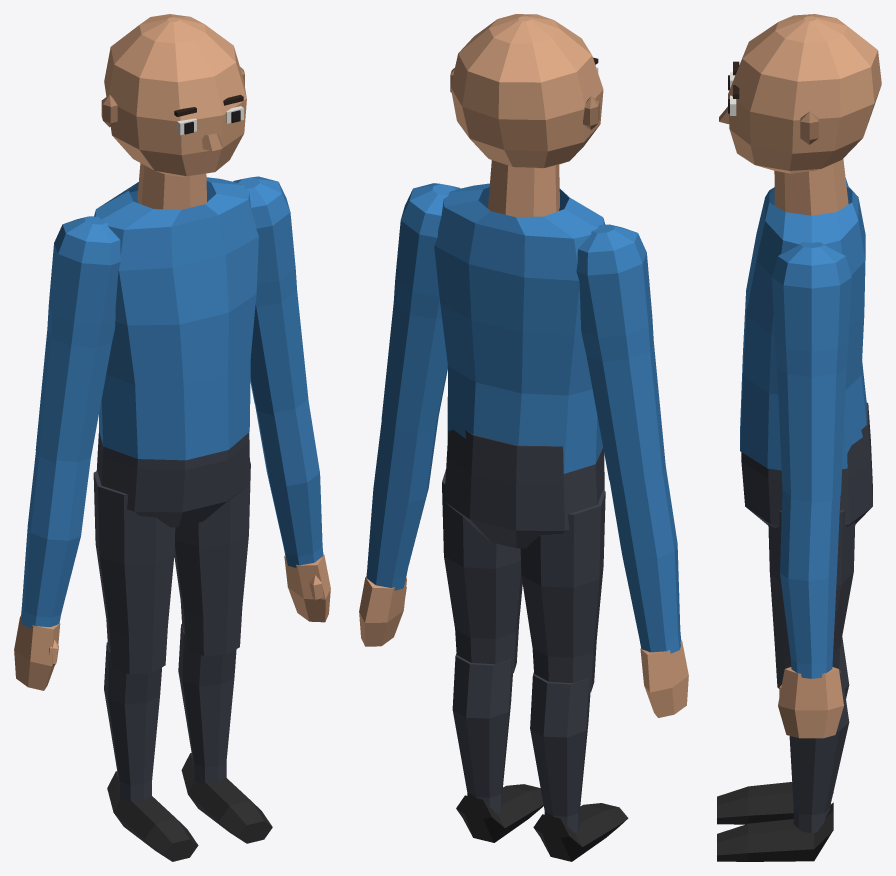
Rendered from petit_x_mince.glb.
The picture shows the model from 3 angles, left to right: view 1: azimuth 30°, elevation 25°; view 2: azimuth 150°, elevation 25°; view 3: azimuth 270°, elevation 25°; orthographic projection. The views are drawn at different scales.
Parts seen in each view (by area): view 1: torse, tete, bras_d, jambe_d, avant_bras_d, bras_g, avant_bras_g, jambe_g, tibia_g, tibia_d, bassin; view 2: torse, tete, bras_d, bassin, bras_g, jambe_d, avant_bras_d, avant_bras_g, tibia_d, tibia_g, jambe_g; view 3: tete, bras_g, torse, avant_bras_g, tibia_g, bassin, jambe_g, tibia_d.
Part boxes in pixels (x1,y1,x2,y2): torse: [94, 177, 258, 460]; tete: [101, 14, 246, 209]; bras_d: [35, 216, 120, 462]; jambe_d: [93, 471, 175, 673]; avant_bras_d: [14, 452, 90, 690]; bras_g: [233, 176, 308, 415]; avant_bras_g: [255, 399, 330, 622]; jambe_g: [174, 461, 250, 655]; tibia_g: [178, 624, 272, 843]; tibia_d: [104, 642, 198, 861]; bassin: [96, 431, 250, 527]; torse: [434, 183, 605, 473]; tete: [450, 14, 603, 217]; bras_d: [576, 224, 665, 485]; bassin: [444, 430, 604, 548]; bras_g: [381, 183, 460, 433]; jambe_d: [520, 490, 605, 692]; avant_bras_d: [609, 466, 688, 717]; avant_bras_g: [359, 417, 438, 646]; tibia_d: [530, 672, 628, 861]; tibia_g: [452, 653, 543, 842]; jambe_g: [442, 470, 522, 673]; tete: [719, 14, 881, 215]; bras_g: [771, 242, 851, 503]; torse: [740, 184, 866, 470]; avant_bras_g: [778, 490, 843, 738]; tibia_g: [717, 669, 849, 861]; bassin: [741, 402, 872, 528]; jambe_g: [768, 509, 855, 688]; tibia_d: [717, 637, 849, 824].
Bounding box in the file's own units: 0.4258 × 1.08 × 0.1964.
Materials: 1 (1 with a texture image).
